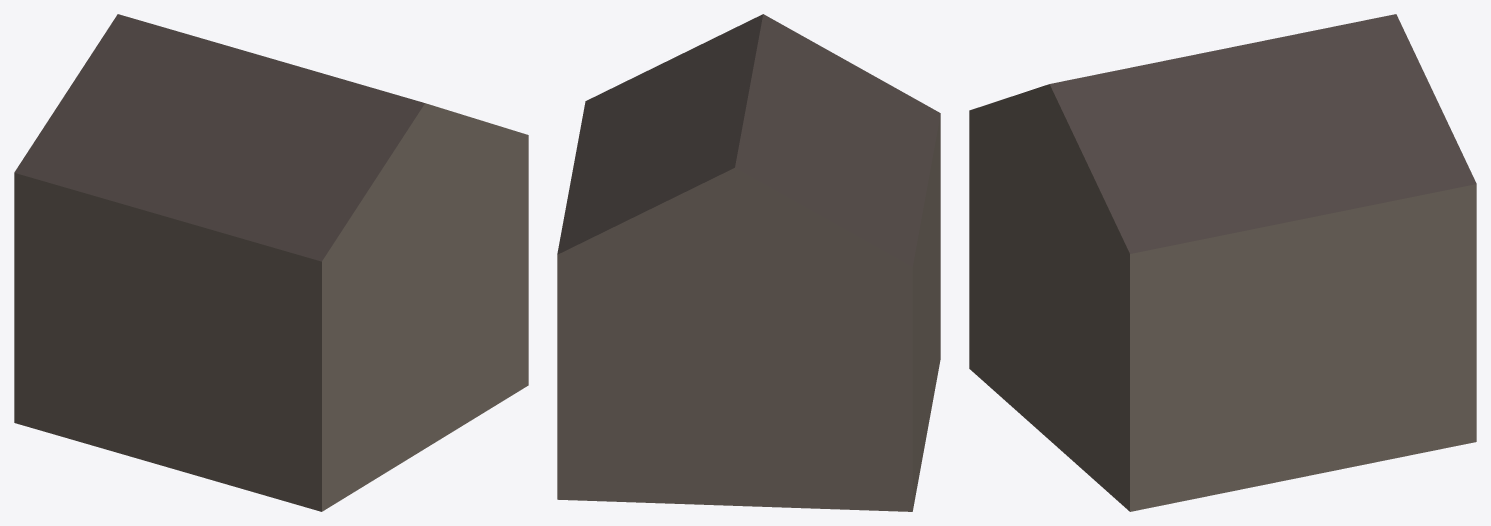
The picture shows the model from 3 angles, left to right: view 1: azimuth 30°, elevation 25°; view 2: azimuth 150°, elevation 25°; view 3: azimuth 270°, elevation 25°; orthographic projection. The views are drawn at different scales.
Parts seen in each view (by area): view 1: HP-w859088482; view 2: HP-w859088482; view 3: HP-w859088482.
Part boxes in pixels (bbox=[...]): HP-w859088482: bbox=[14, 14, 528, 511]; HP-w859088482: bbox=[557, 14, 940, 511]; HP-w859088482: bbox=[969, 14, 1476, 511].
Size of the model in its own units: 15.98 by 12.43 by 16.05.
